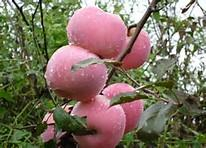apple: (68, 6, 132, 52), (72, 99, 127, 148)
